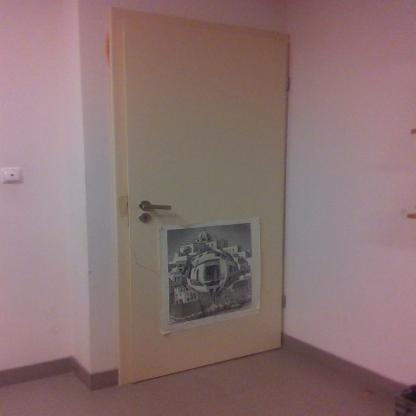closed: (99, 0, 298, 389)
